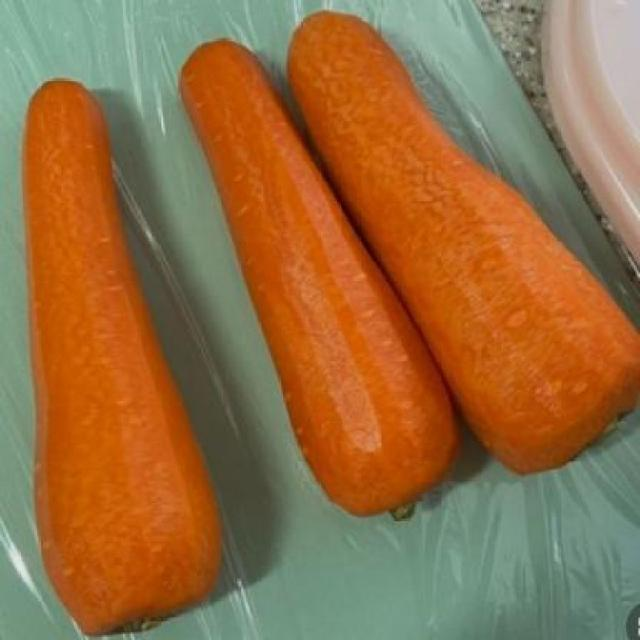carrot: (289, 14, 640, 472), (181, 41, 459, 515), (24, 80, 221, 633)
